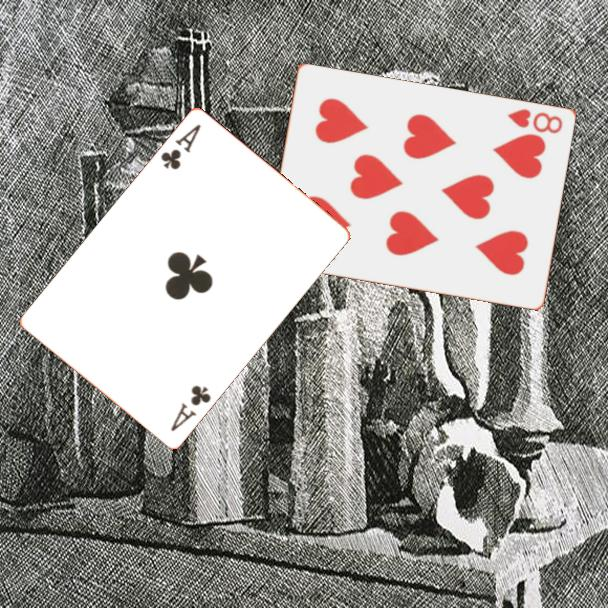c01: (167, 382, 214, 435), (157, 121, 204, 173)
h08: (504, 106, 565, 137)
